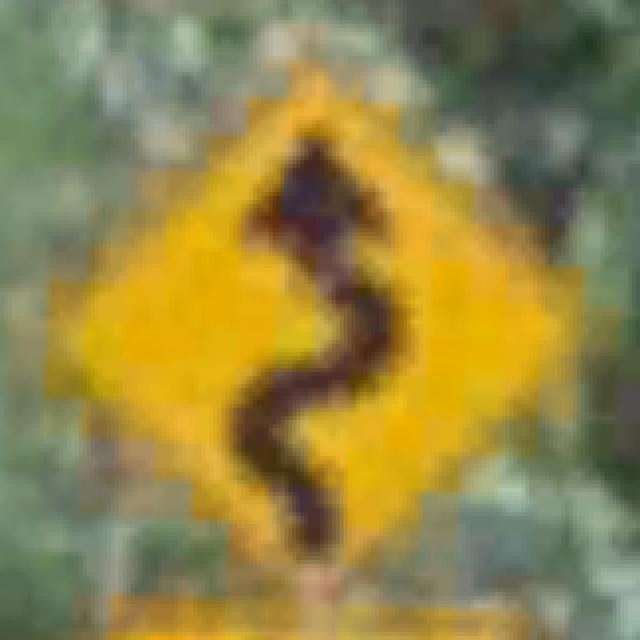Banyak Tikungan Pertama Kiri: (31, 48, 573, 608)
